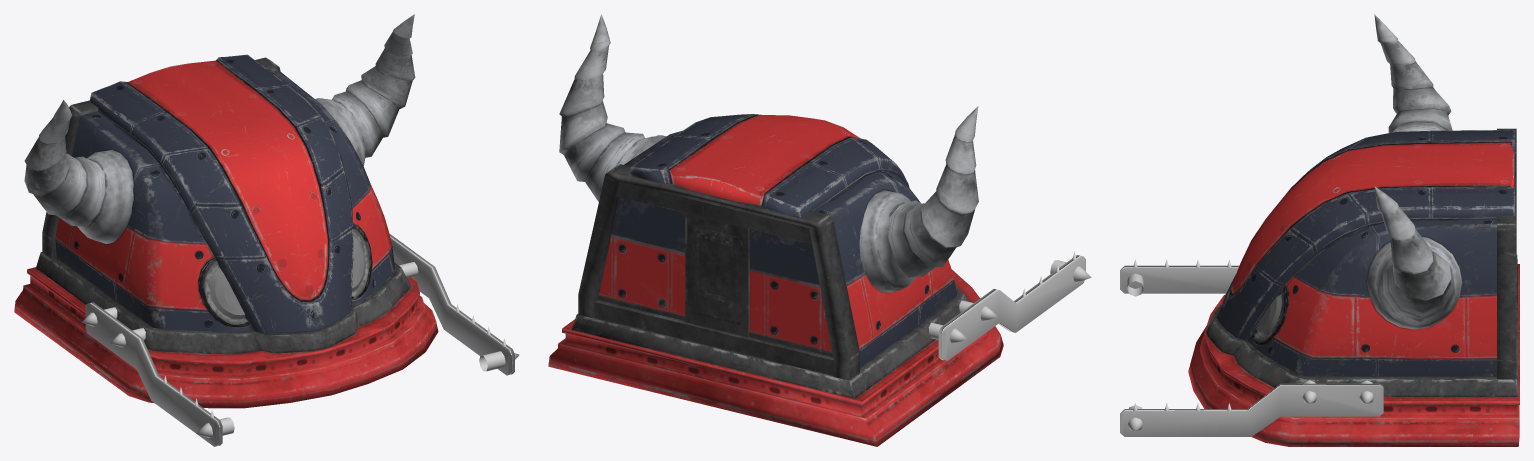
The model's file is Ob_OgreTrainHeadSmall.fbx.
3 views of the same model, side by side, from view 1: azimuth 30°, elevation 25°; view 2: azimuth 150°, elevation 25°; view 3: azimuth 270°, elevation 25° (orthographic). The views are drawn at different scales.
Parts seen in each view (by area): view 1: Ob_OgreTrainHeadSmall; view 2: Ob_OgreTrainHeadSmall; view 3: Ob_OgreTrainHeadSmall.
Boxes of the visible parts, x1=… form: Ob_OgreTrainHeadSmall: x1=14, y1=14, x2=519, y2=446; Ob_OgreTrainHeadSmall: x1=548, y1=14, x2=1091, y2=446; Ob_OgreTrainHeadSmall: x1=1120, y1=14, x2=1519, y2=446.
Bounding box in the file's own units: 998 × 686 × 897.
